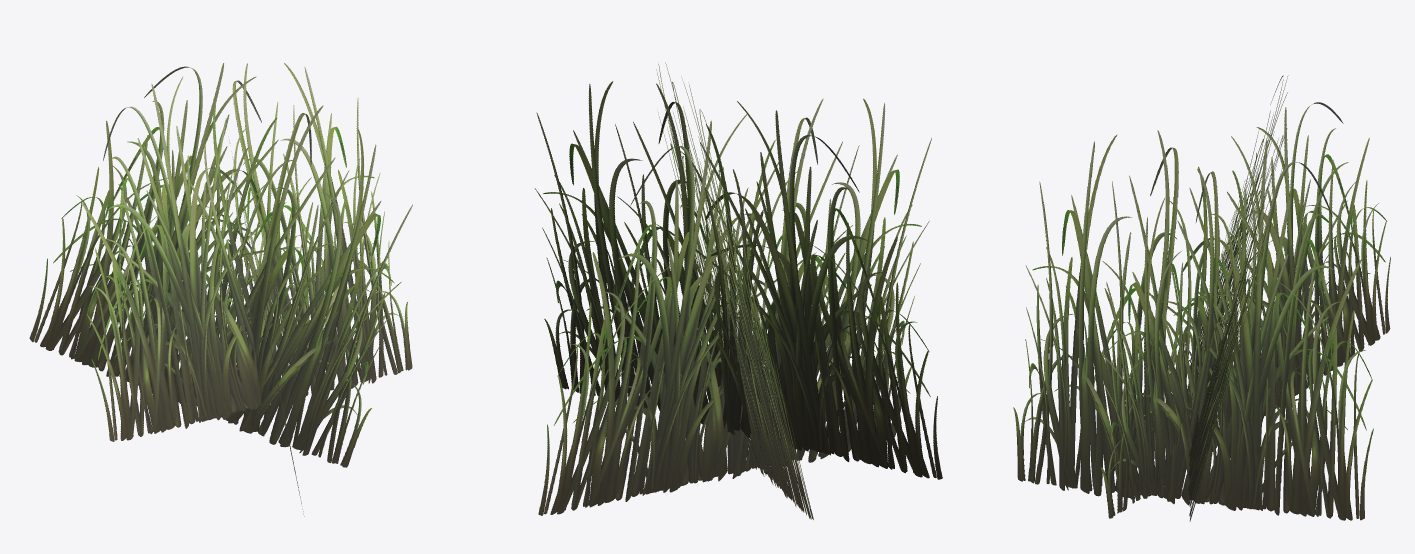
File: grassSingle.fbx
The picture shows the model from 3 angles, left to right: view 1: azimuth 30°, elevation 25°; view 2: azimuth 150°, elevation 25°; view 3: azimuth 270°, elevation 25°; orthographic projection. The views are drawn at different scales.
Parts seen in each view (by area): view 1: Plane.001, Plane.002; view 2: Plane.001, Plane.003, Plane.002; view 3: Plane.003, Plane.002, Plane.001.
Part boxes in pixels (left/top/right/bottom): Plane.001: left=82, top=63, right=412, bottom=441; Plane.002: left=29, top=63, right=412, bottom=467; Plane.001: left=534, top=81, right=942, bottom=479; Plane.003: left=538, top=98, right=931, bottom=515; Plane.002: left=656, top=62, right=813, bottom=519; Plane.003: left=1013, top=130, right=1373, bottom=520; Plane.002: left=1100, top=102, right=1390, bottom=518; Plane.001: left=1188, top=75, right=1288, bottom=521.
Size of the model in its own units: 0.5 by 0.6055 by 0.4851.
